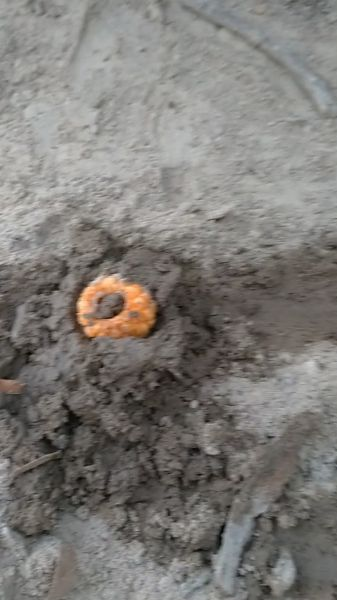eggs: (72, 273, 165, 343)
